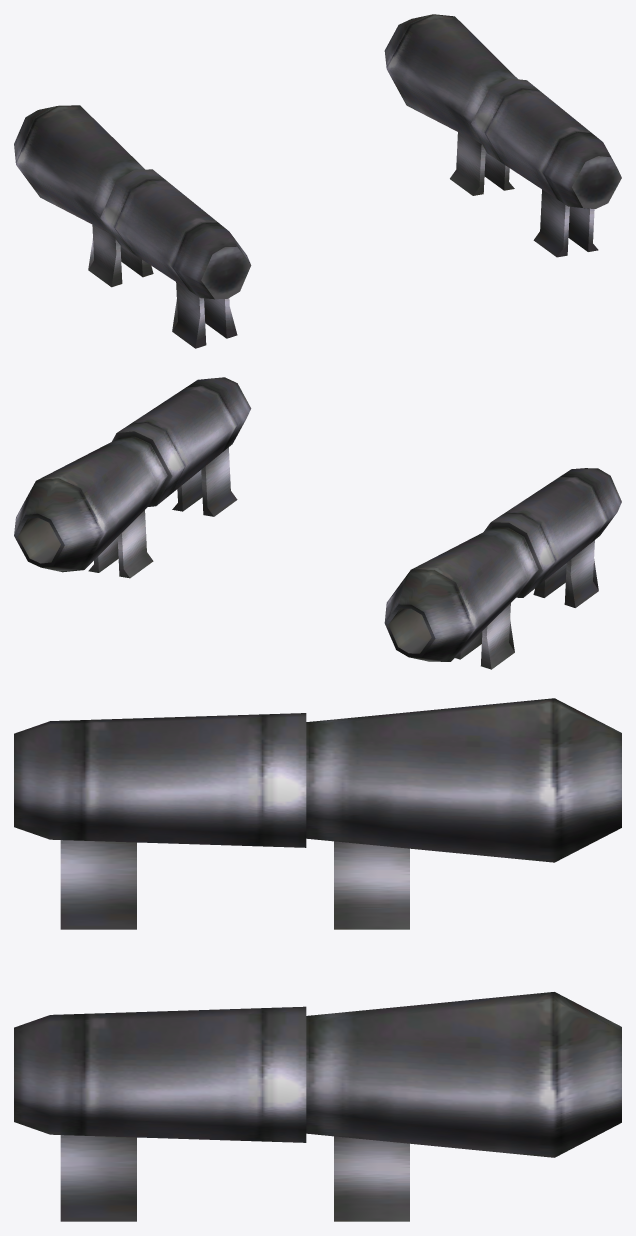
The model's file is awing_booster_s02_l1.fbx.
3 views of the same model, one above another, from view 1: azimuth 30°, elevation 25°; view 2: azimuth 150°, elevation 25°; view 3: azimuth 270°, elevation 25° (orthographic). The views are drawn at different scales.
Visible parts, largest first — view 1: mesh_node; view 2: mesh_node; view 3: mesh_node.
Part boxes in pixels (<box>): mesh_node: <box>14,14,621,348</box>; mesh_node: <box>14,377,621,669</box>; mesh_node: <box>14,698,621,1221</box>.
Size of the model in its own units: 3.73 by 0.9974 by 2.63.
Materials: 1 (1 with a texture image).
